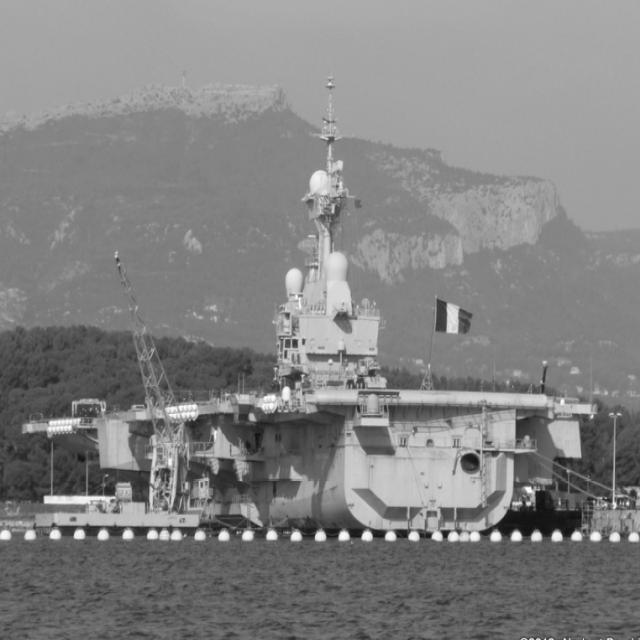Portanaves: (22, 68, 610, 545)
